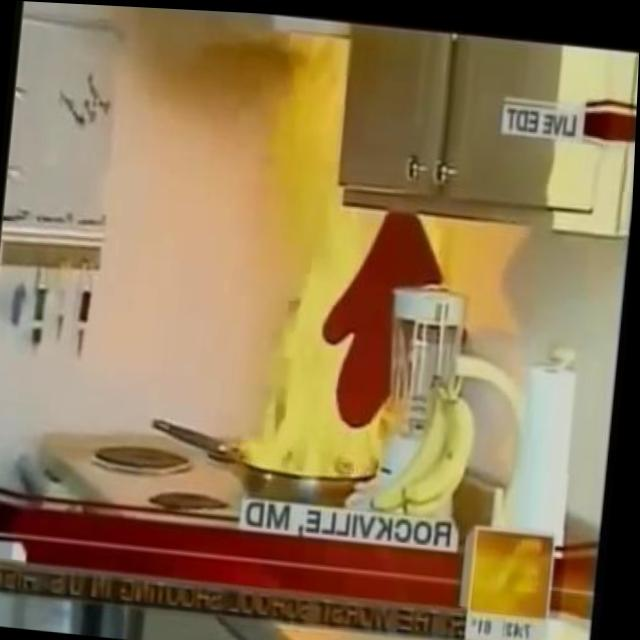fire: (237, 24, 454, 482)
